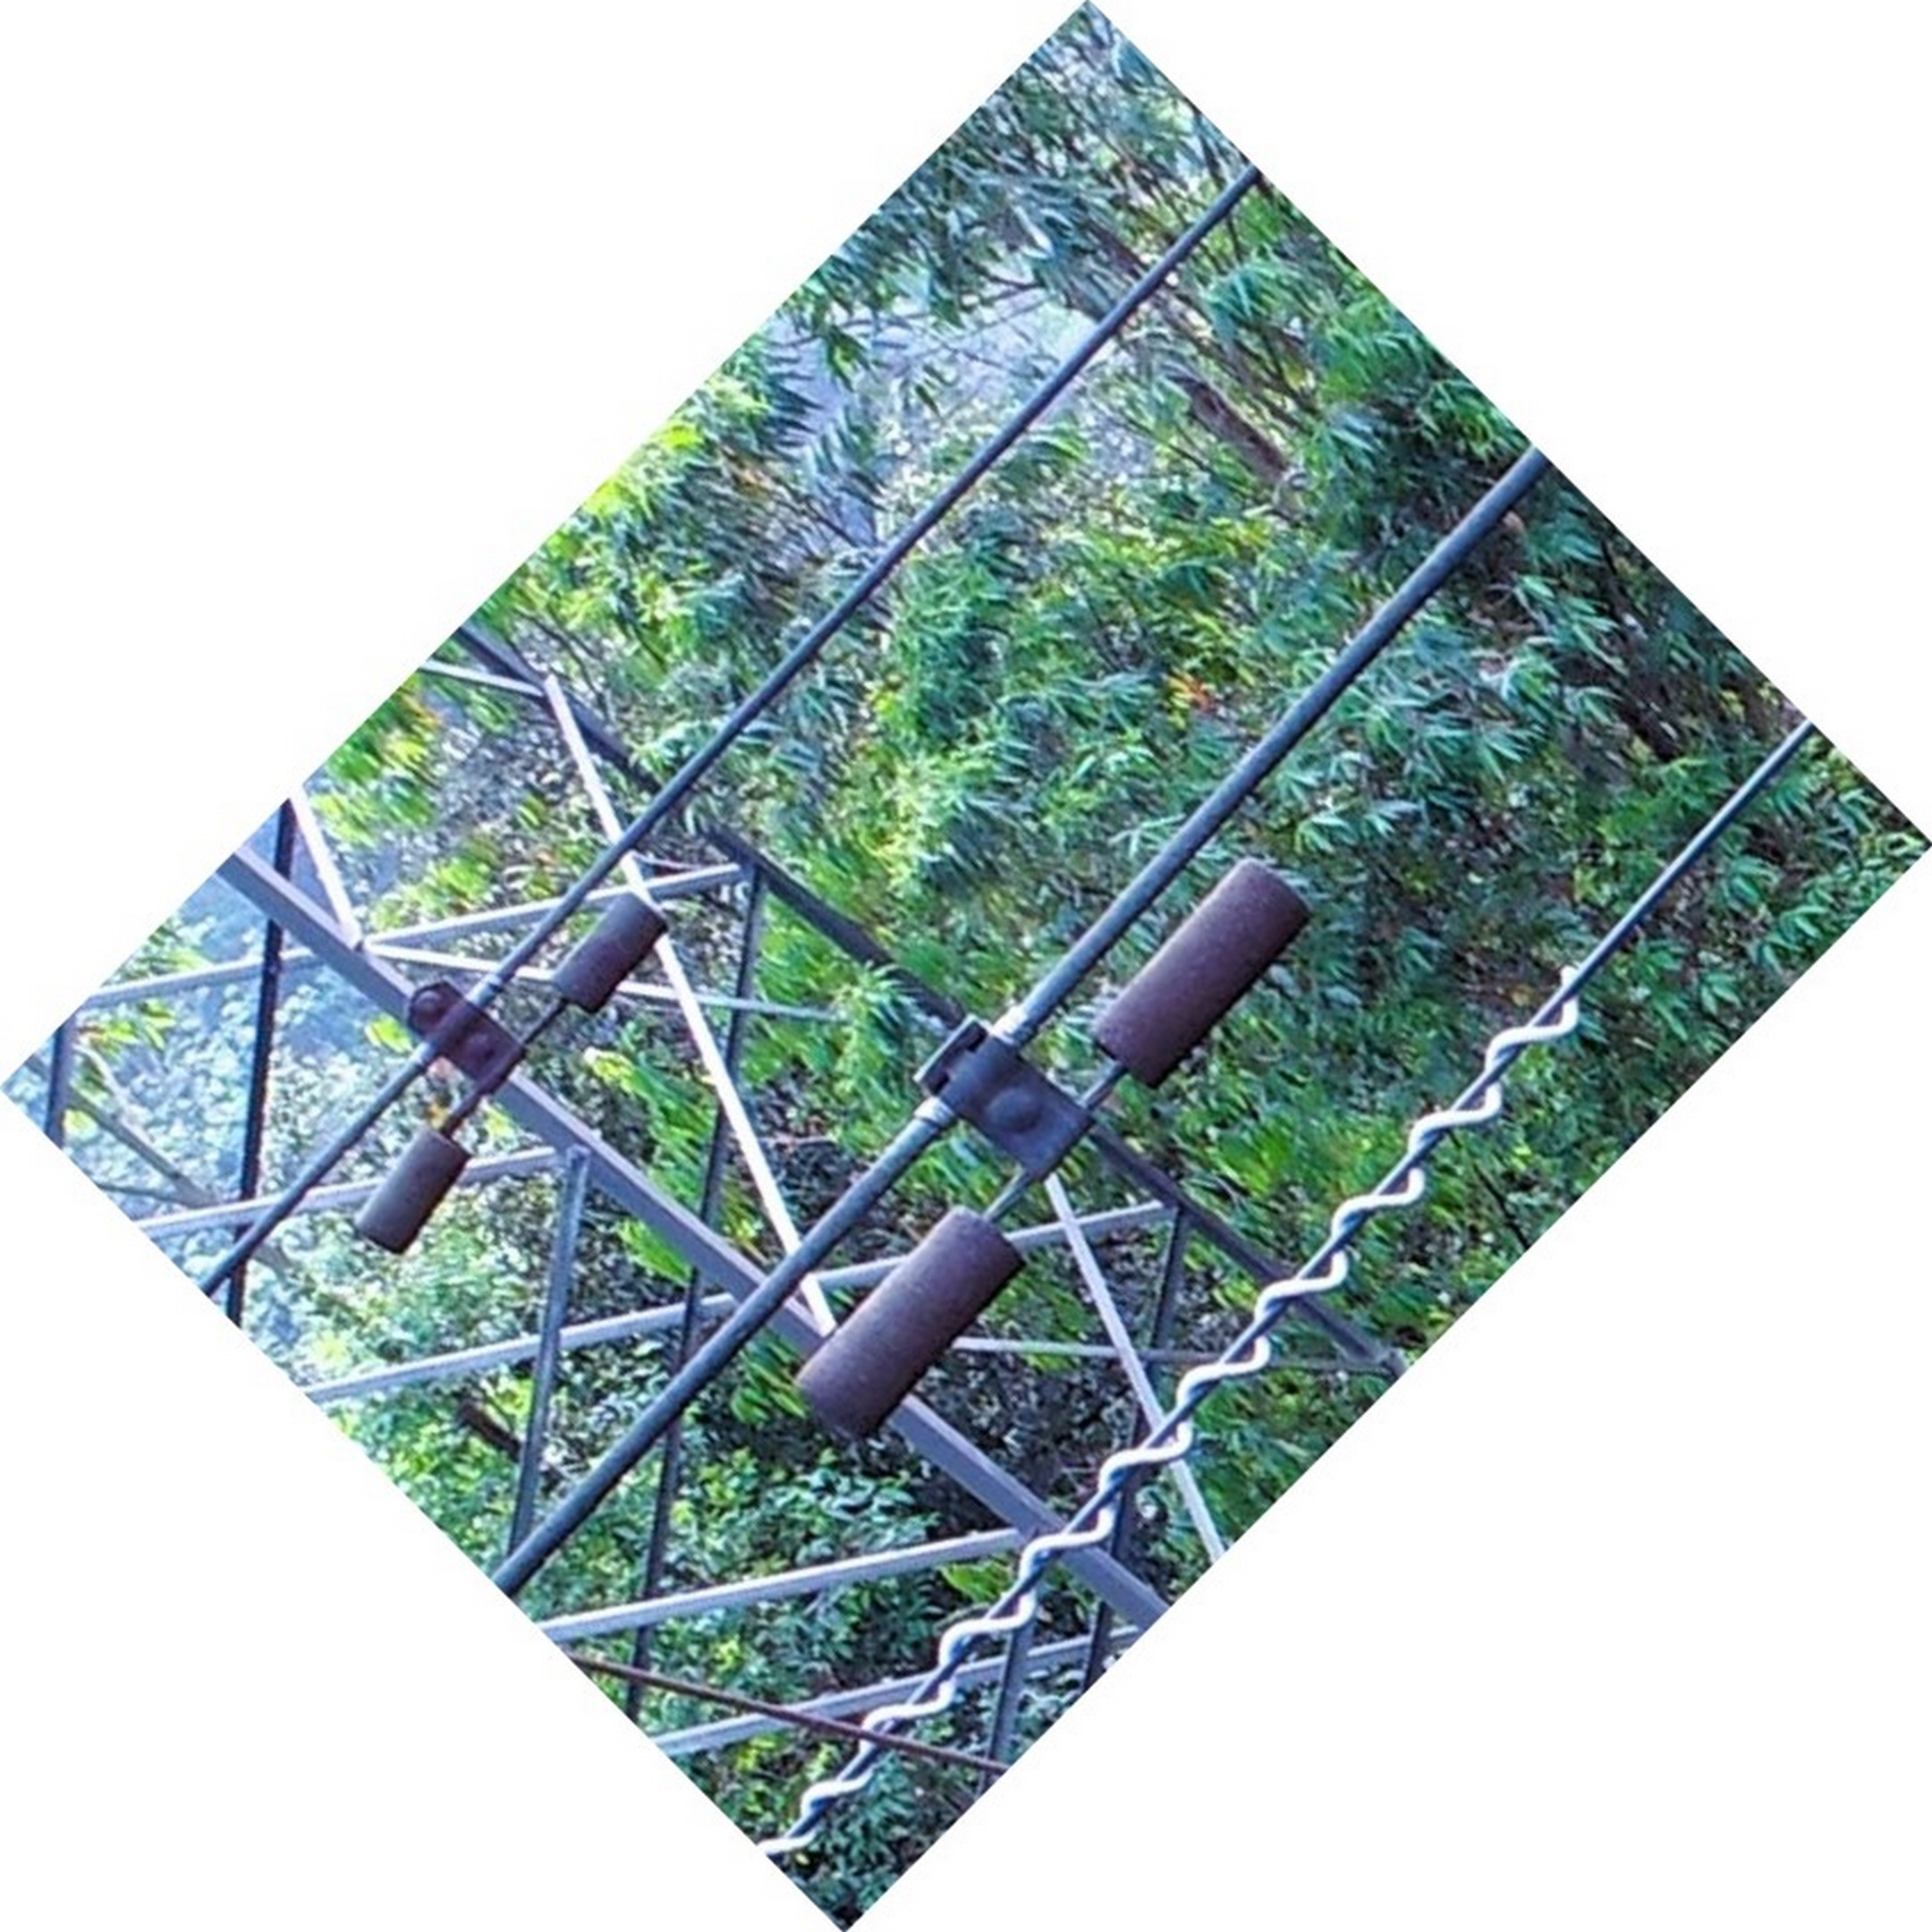Shockproof hammer: (768, 840, 1332, 1454), (299, 862, 686, 1261)
